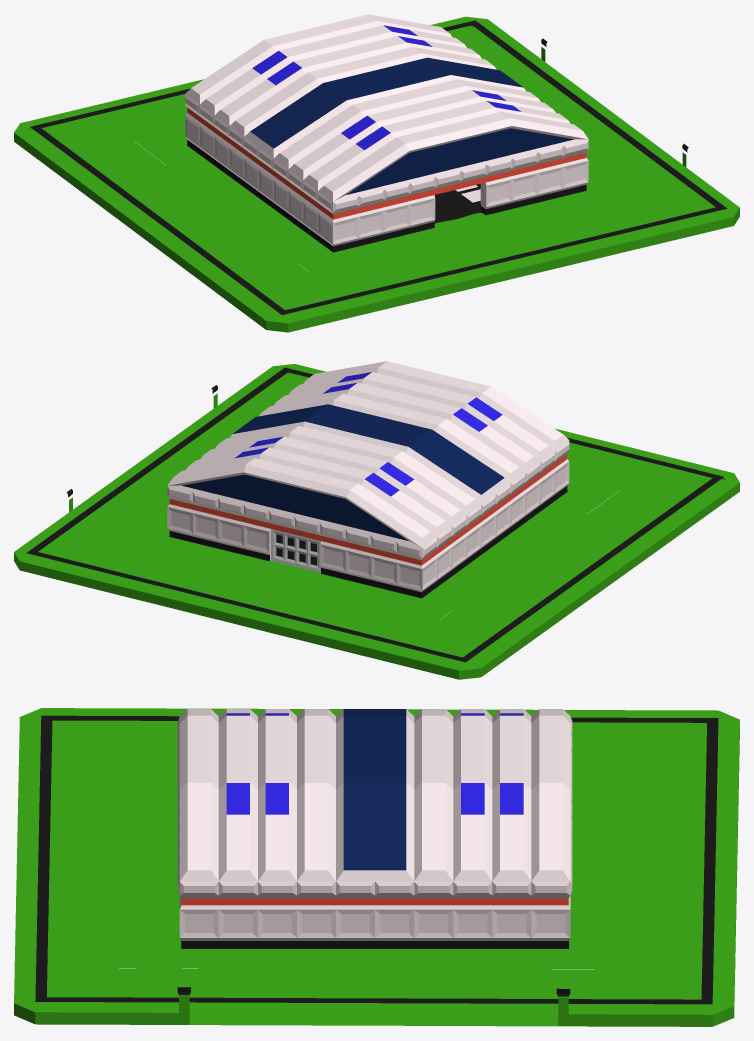
Rendered from farm 4.fbx.
The picture shows the model from 3 angles, top to bottom: view 1: azimuth 30°, elevation 25°; view 2: azimuth 150°, elevation 25°; view 3: azimuth 270°, elevation 25°; orthographic projection. The views are drawn at different scales.
Parts seen in each view (by area): view 1: FloorTile.010, Warehouse_body_Placeable_0, Warehouse_body_Placeable_0.001, FloorTileBoundry.010, Warehouse_body_Placeable_0.004, Warehouse_body_Placeable_0.002, Warehouse_body_Placeable_0.003; view 2: FloorTile.010, Warehouse_body_Placeable_0, Warehouse_body_Placeable_0.001, FloorTileBoundry.010, Warehouse_body_Placeable_0.002, Warehouse_body_Placeable_0.004, Warehouse_body_Placeable_0.003, Warehouse_Door.F_Placeable_0; view 3: FloorTile.010, Warehouse_body_Placeable_0, FloorTileBoundry.010, Warehouse_body_Placeable_0.001, Warehouse_body_Placeable_0.003, Warehouse_body_Placeable_0.004, Warehouse_body_Placeable_0.002.
Part boxes in pixels (bbox=[...]): FloorTile.010: bbox=[14, 16, 739, 332]; Warehouse_body_Placeable_0: bbox=[185, 14, 588, 246]; Warehouse_body_Placeable_0.001: bbox=[250, 57, 573, 194]; FloorTileBoundry.010: bbox=[30, 20, 726, 314]; Warehouse_body_Placeable_0.004: bbox=[187, 140, 586, 252]; Warehouse_body_Placeable_0.002: bbox=[187, 107, 586, 219]; Warehouse_body_Placeable_0.003: bbox=[252, 25, 521, 150]; FloorTile.010: bbox=[14, 364, 739, 679]; Warehouse_body_Placeable_0: bbox=[167, 361, 569, 592]; Warehouse_body_Placeable_0.001: bbox=[182, 404, 504, 540]; FloorTileBoundry.010: bbox=[26, 367, 723, 662]; Warehouse_body_Placeable_0.002: bbox=[169, 454, 567, 565]; Warehouse_body_Placeable_0.004: bbox=[169, 486, 567, 598]; Warehouse_body_Placeable_0.003: bbox=[235, 372, 502, 496]; Warehouse_Door.F_Placeable_0: bbox=[271, 529, 320, 572]; FloorTile.010: bbox=[14, 708, 739, 1026]; Warehouse_body_Placeable_0: bbox=[177, 709, 572, 940]; FloorTileBoundry.010: bbox=[35, 715, 718, 1004]; Warehouse_body_Placeable_0.001: bbox=[343, 709, 406, 870]; Warehouse_body_Placeable_0.003: bbox=[226, 713, 523, 814]; Warehouse_body_Placeable_0.004: bbox=[181, 940, 568, 948]; Warehouse_body_Placeable_0.002: bbox=[181, 898, 568, 905].
Size of the model in its own units: 409487 by 81092 by 408556.
Materials: 8 (1 with a texture image).
